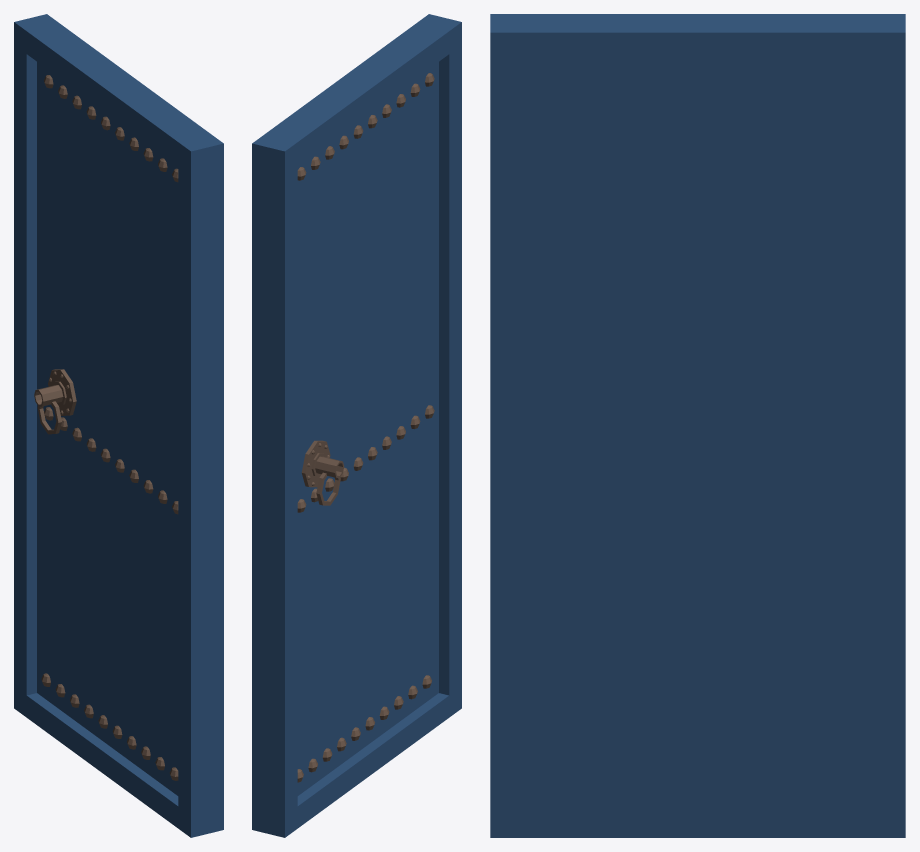
Rendered from Door.fbx.
3 renders of one model, left to right at view 1: azimuth 30°, elevation 25°; view 2: azimuth 150°, elevation 25°; view 3: azimuth 270°, elevation 25°, orthographic. The views are drawn at different scales.
Visible parts, largest first — view 1: Door; view 2: Door; view 3: Door.
Boxes of the visible parts, x1,y1,x2,y2 form: Door: (14, 14, 223, 837); Door: (252, 14, 461, 837); Door: (490, 14, 905, 837).
Size of the model in its own units: 5.56 by 35.56 by 76.12.
